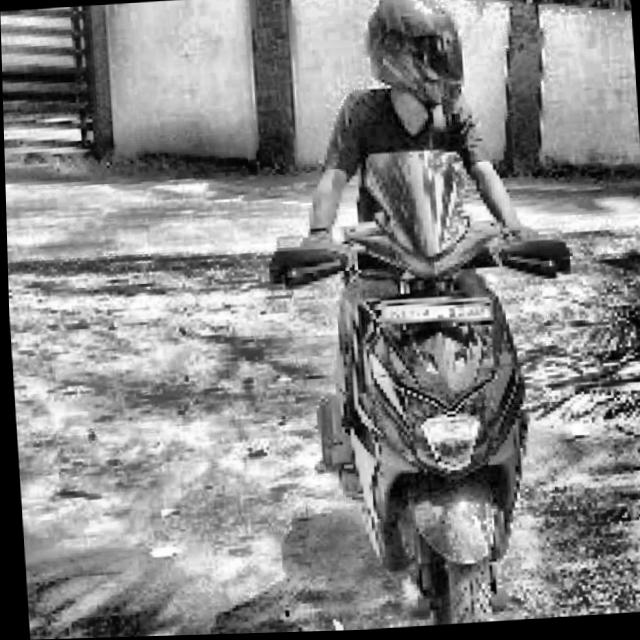motorcycle: (254, 129, 591, 634)
